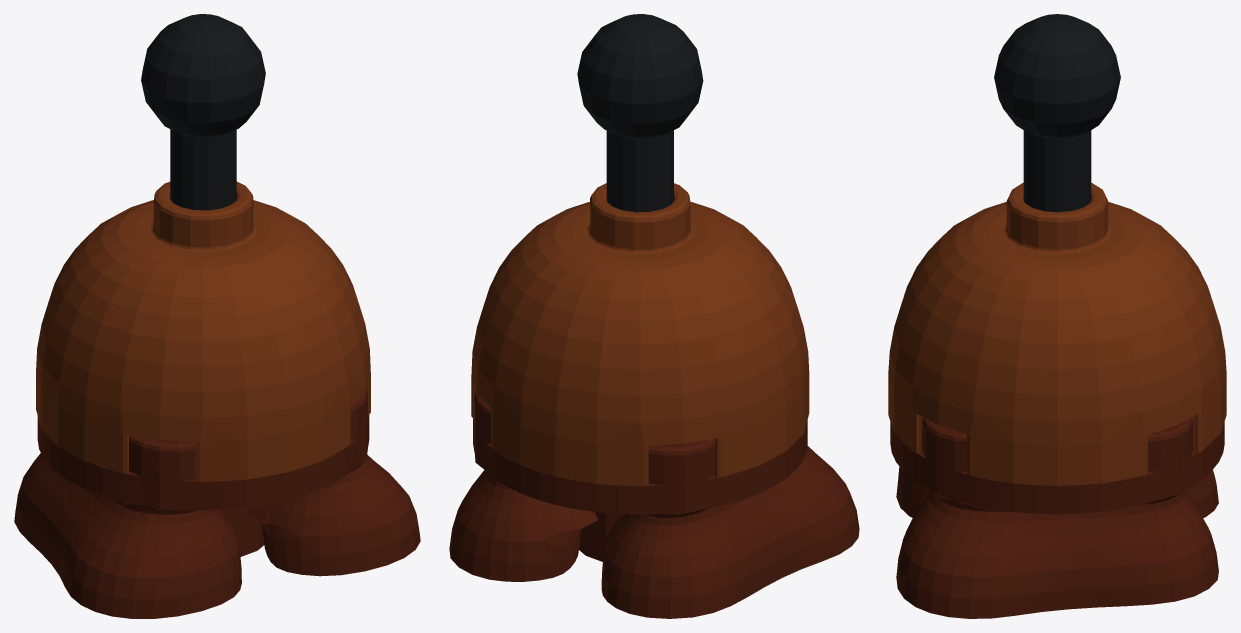
File: PotatoMine.dae
3 views of the same model, side by side, from view 1: azimuth 30°, elevation 25°; view 2: azimuth 150°, elevation 25°; view 3: azimuth 270°, elevation 25° (orthographic).
Visible parts, largest first — view 1: Part.1, Part.2, Part.0; view 2: Part.1, Part.2, Part.0; view 3: Part.1, Part.2, Part.0.
Boxes of the visible parts, <box> form: Part.1: <box>36,181,370,481</box>; Part.2: <box>14,389,420,618</box>; Part.0: <box>141,14,265,210</box>; Part.1: <box>471,183,809,486</box>; Part.2: <box>449,392,859,618</box>; Part.0: <box>577,14,703,212</box>; Part.1: <box>888,183,1226,485</box>; Part.2: <box>890,415,1224,618</box>; Part.0: <box>994,14,1120,212</box>.
Size of the model in its own units: 18.27 by 27 by 16.
